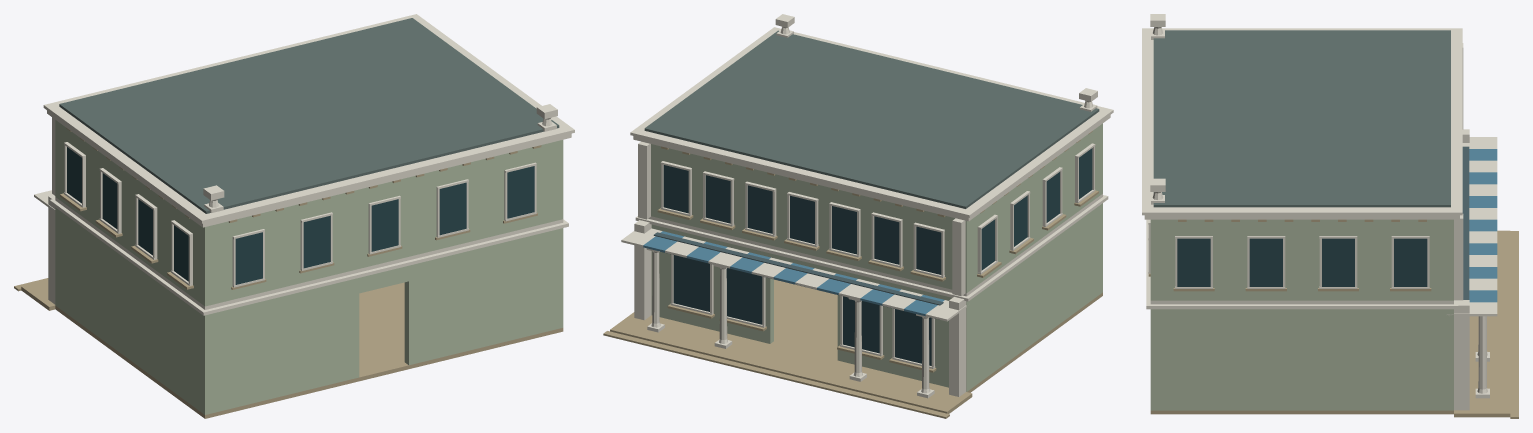
The model's file is KOL_T25_RETAIL.fbx.
The picture shows the model from 3 angles, left to right: view 1: azimuth 30°, elevation 25°; view 2: azimuth 150°, elevation 25°; view 3: azimuth 270°, elevation 25°; orthographic projection. The views are drawn at different scales.
Parts seen in each view (by area): view 1: KOL_T25_RETAIL__Body, KOL_T25_RETAIL__Roof, KOL_T25_RETAIL__Trim, KOL_T25_RETAIL__Glass, KOL_T25_RETAIL__Stone; view 2: KOL_T25_RETAIL__Roof, KOL_T25_RETAIL__Body, KOL_T25_RETAIL__Trim, KOL_T25_RETAIL__Stone, KOL_T25_RETAIL__Glass, KOL_T25_RETAIL__Blue, KOL_T25_RETAIL__Metal; view 3: KOL_T25_RETAIL__Roof, KOL_T25_RETAIL__Body, KOL_T25_RETAIL__Trim, KOL_T25_RETAIL__Stone, KOL_T25_RETAIL__Glass, KOL_T25_RETAIL__Blue, KOL_T25_RETAIL__Metal.
Part boxes in pixels (<box>): KOL_T25_RETAIL__Body: <box>55,120,563,414</box>; KOL_T25_RETAIL__Roof: <box>59,18,559,213</box>; KOL_T25_RETAIL__Trim: <box>34,14,574,315</box>; KOL_T25_RETAIL__Glass: <box>67,147,534,284</box>; KOL_T25_RETAIL__Stone: <box>14,128,563,418</box>; KOL_T25_RETAIL__Roof: <box>644,30,1099,208</box>; KOL_T25_RETAIL__Body: <box>651,123,1102,391</box>; KOL_T25_RETAIL__Trim: <box>621,14,1113,398</box>; KOL_T25_RETAIL__Stone: <box>603,131,1102,418</box>; KOL_T25_RETAIL__Glass: <box>663,148,1092,365</box>; KOL_T25_RETAIL__Blue: <box>643,231,944,316</box>; KOL_T25_RETAIL__Metal: <box>653,232,943,319</box>; KOL_T25_RETAIL__Roof: <box>1153,30,1450,207</box>; KOL_T25_RETAIL__Body: <box>1150,219,1453,410</box>; KOL_T25_RETAIL__Trim: <box>1142,14,1497,410</box>; KOL_T25_RETAIL__Stone: <box>1148,219,1518,418</box>; KOL_T25_RETAIL__Glass: <box>1177,238,1427,286</box>; KOL_T25_RETAIL__Blue: <box>1469,149,1497,302</box>; KOL_T25_RETAIL__Metal: <box>1462,146,1469,299</box>.
Bounding box in the file's own units: 61 × 34.6 × 52.2.
